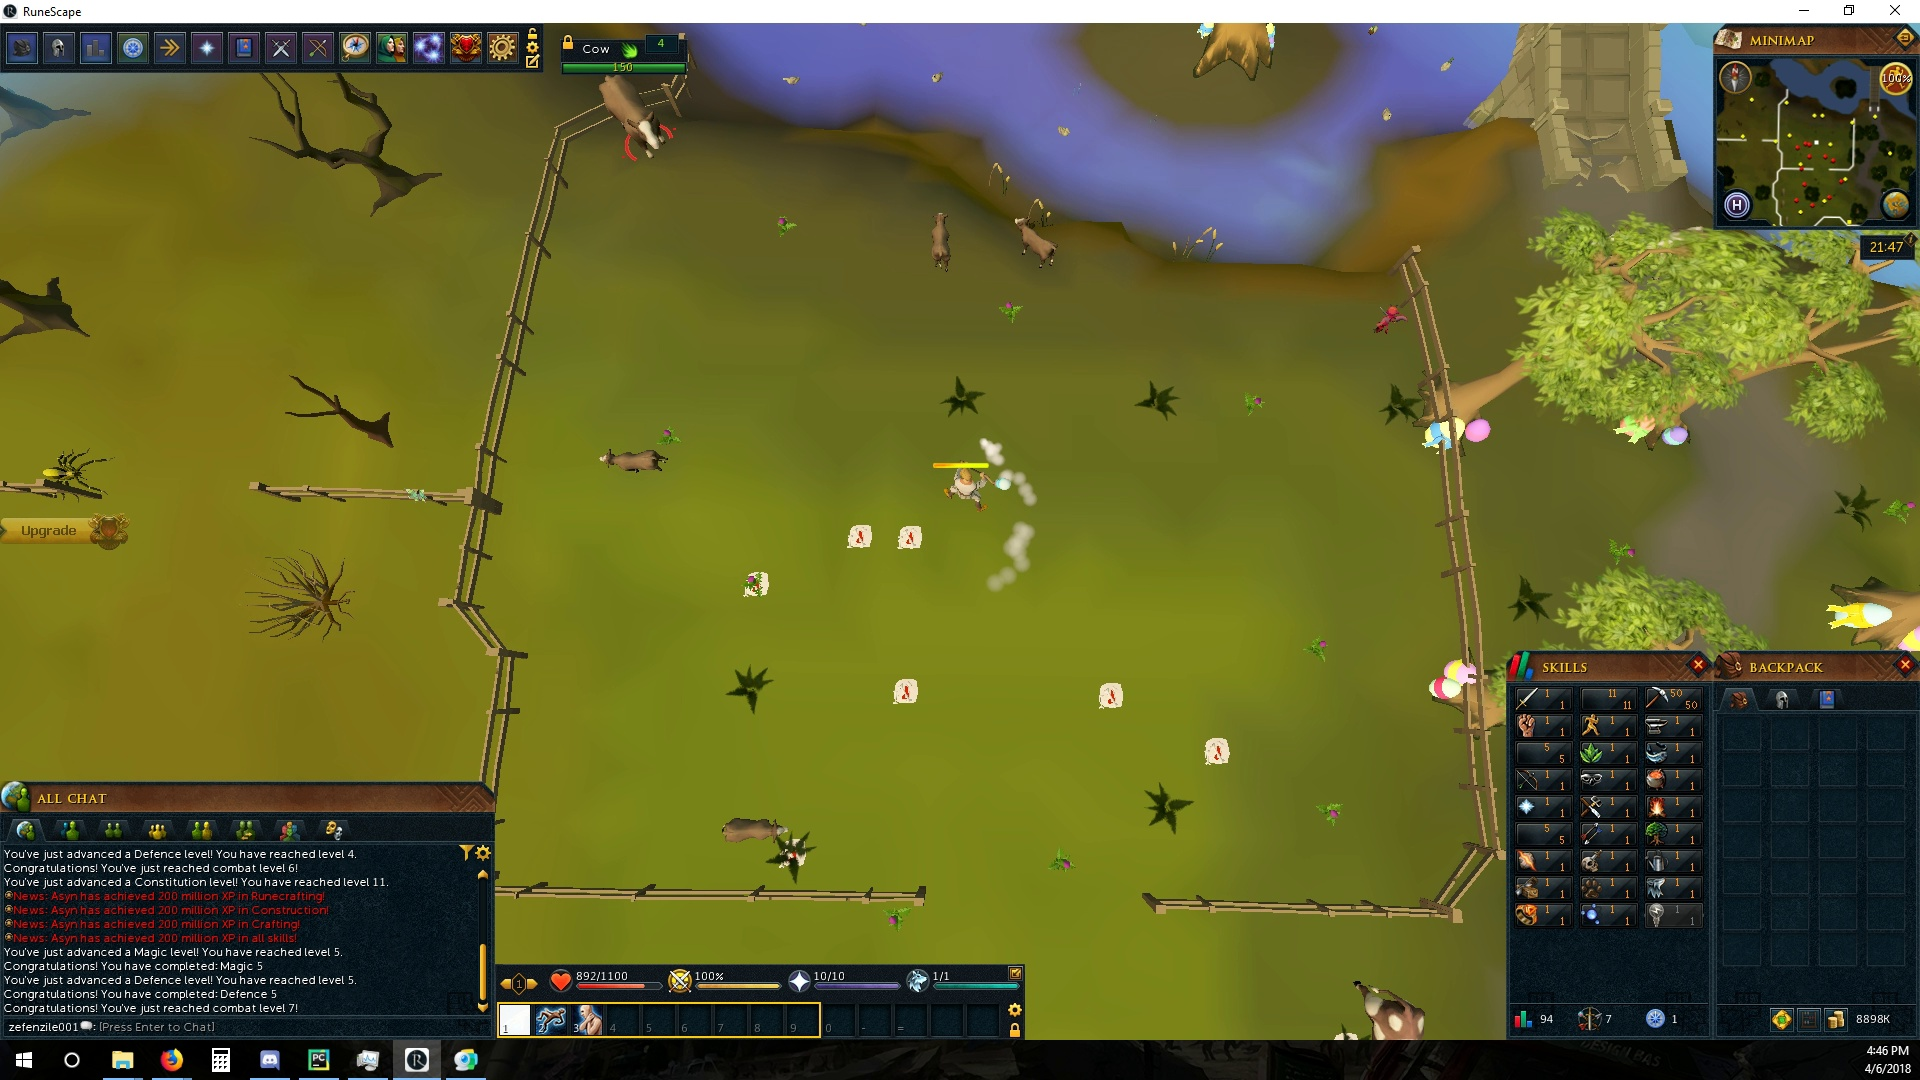calf: (1013, 214, 1060, 265), (719, 814, 787, 844), (597, 448, 671, 476), (927, 207, 953, 274)
cow: (591, 74, 675, 164)
cow_drop: (1200, 735, 1233, 769), (737, 568, 771, 600), (1097, 680, 1127, 711), (844, 521, 876, 550), (895, 524, 926, 553), (891, 676, 920, 707)
